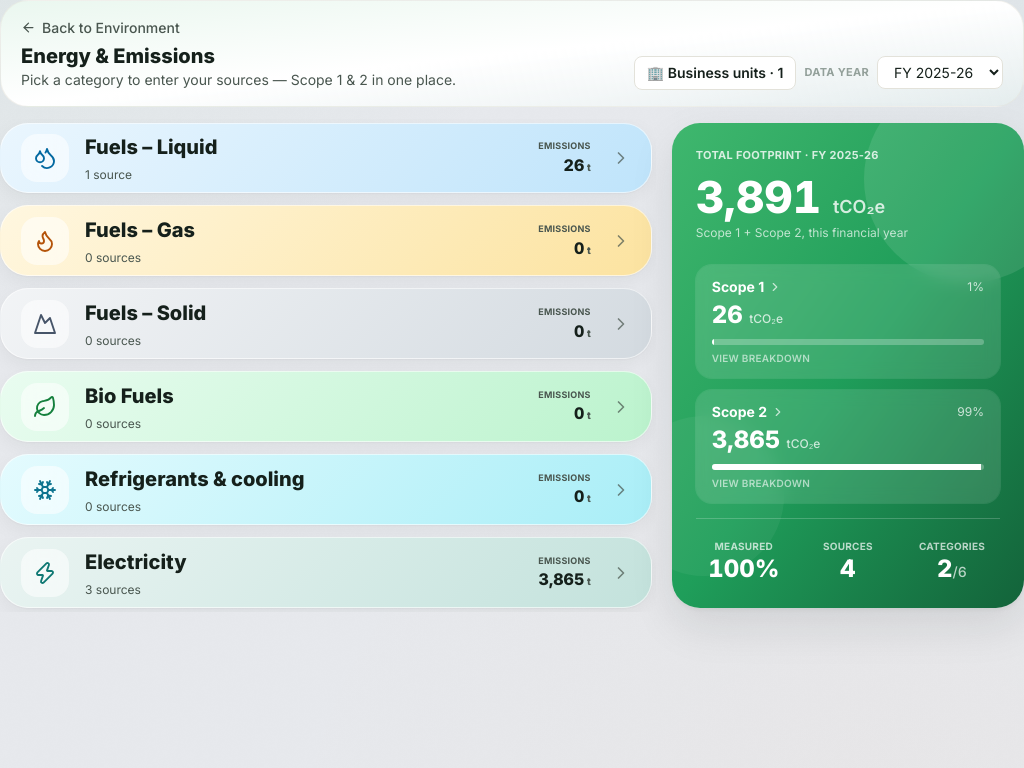
Test: EntryScreen — E2a: opex=0 hint › shows the hint when opex === 0
Click the button "Fuels – Liquid 1 source Emissions 26 t".
click(45, 158)  # box 0,122 -> 652,193
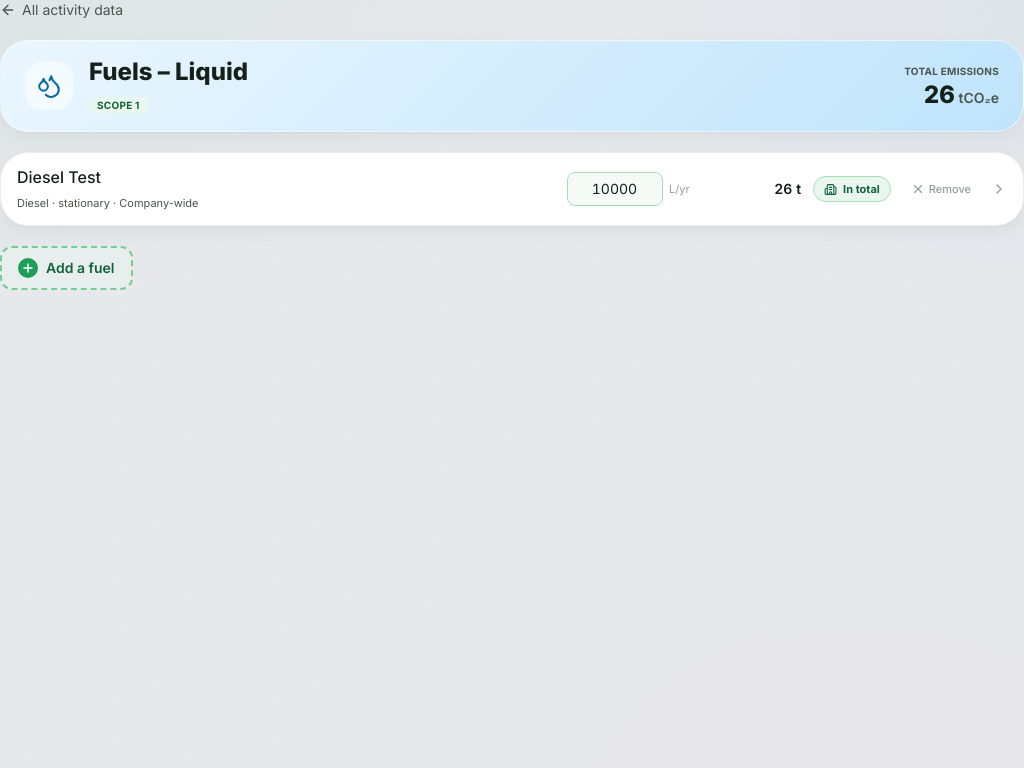
Click the text "Diesel Test".
click(59, 177)  # box 17,167 -> 198,210
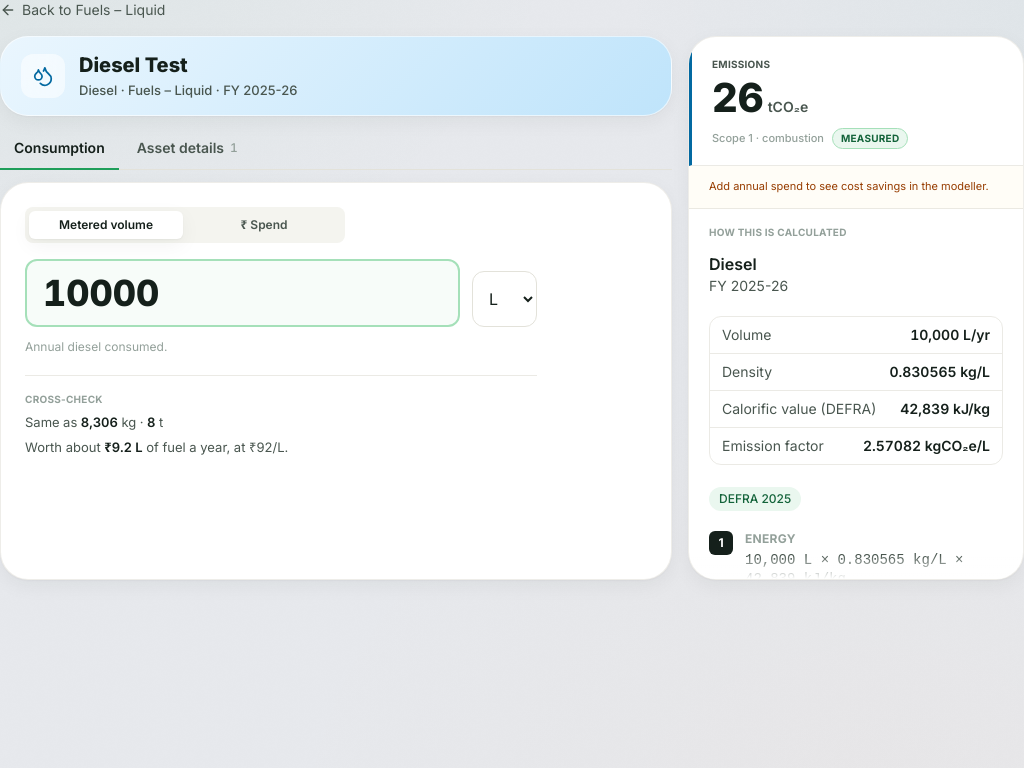
Check: the text "Add annual spend to see cost savings in the modeller." is shown, box 709,178 -> 1003,196
